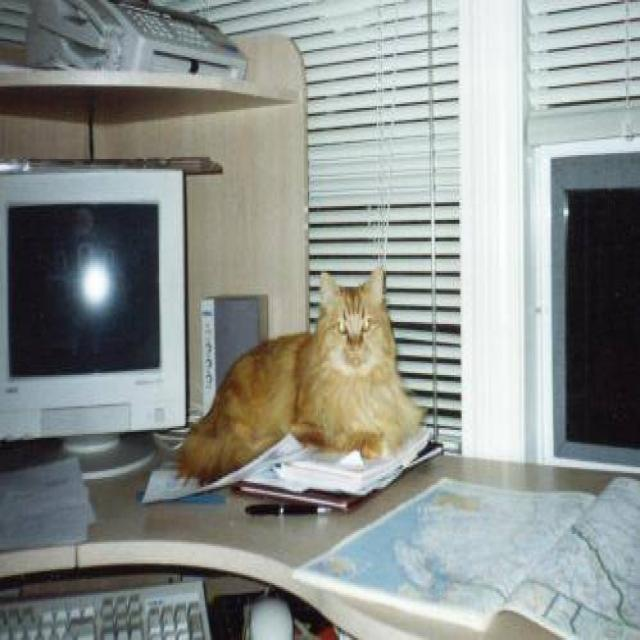cat: (173, 265, 426, 485)
